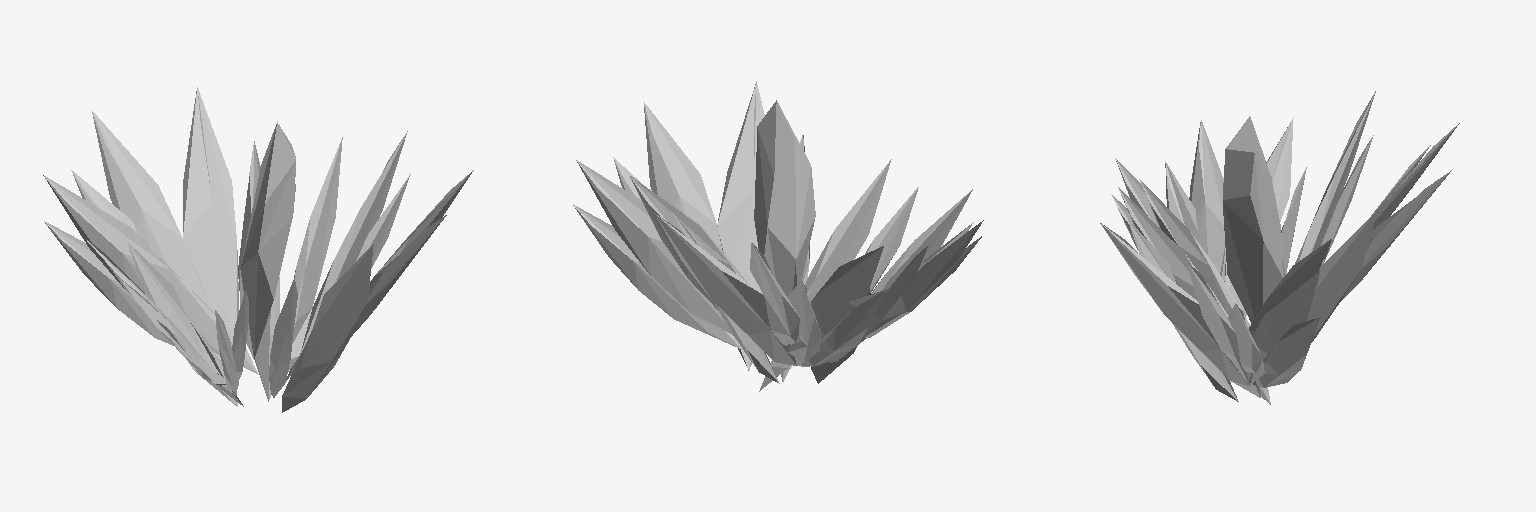
The model's file is Crystal Budh Like Structure.obj.
3 views of the same model, side by side, from view 1: azimuth 30°, elevation 25°; view 2: azimuth 150°, elevation 25°; view 3: azimuth 270°, elevation 25° (orthographic).
Parts seen in each view (by area): view 1: Shard_1.021; view 2: Shard_1.021; view 3: Shard_1.021.
Part boxes in pixels (x1,y1,x2,y2): Shard_1.021: (43,87,473,412); Shard_1.021: (573,81,983,391); Shard_1.021: (1100,91,1459,404).
Bounding box in the file's own units: 1.27 × 0.9832 × 1.12.